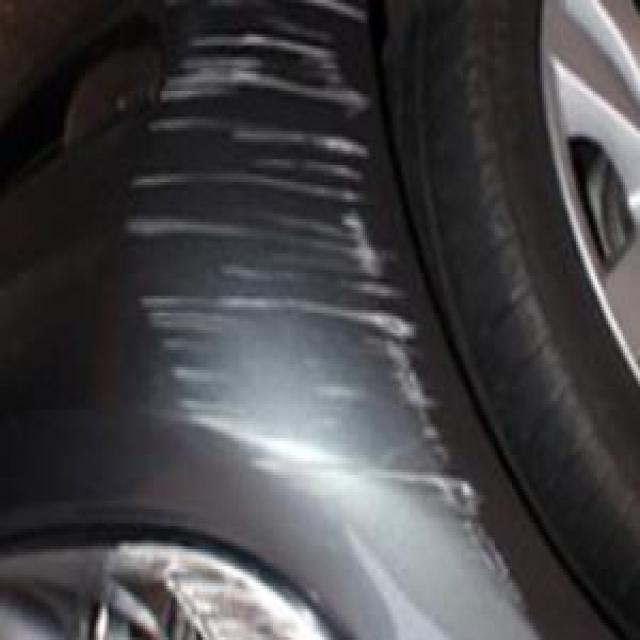scratch: (122, 16, 454, 520)
